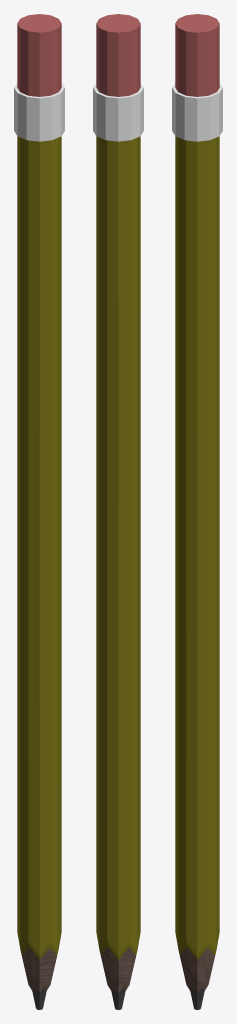
Rendered from pencil_lp.fbx.
3 views of the same model, side by side, from view 1: azimuth 90°, elevation 25°; view 2: azimuth 150°, elevation 25°; view 3: azimuth 270°, elevation 25° (orthographic).
Parts seen in each view (by area): view 1: pencil_lp; view 2: pencil_lp; view 3: pencil_lp.
Boxes of the visible parts, x1,y1,x2,y2 form: pencil_lp: [14, 14, 64, 1009]; pencil_lp: [93, 14, 143, 1009]; pencil_lp: [172, 14, 222, 1009].
Size of the model in its own units: 0.509 by 10.89 by 0.509.
Materials: 6 (5 with a texture image).
